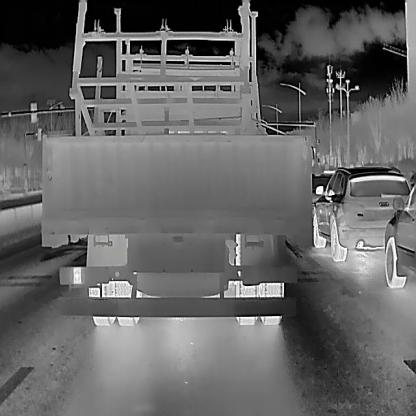car: (311, 166, 412, 262)
truck: (37, 52, 313, 327)
